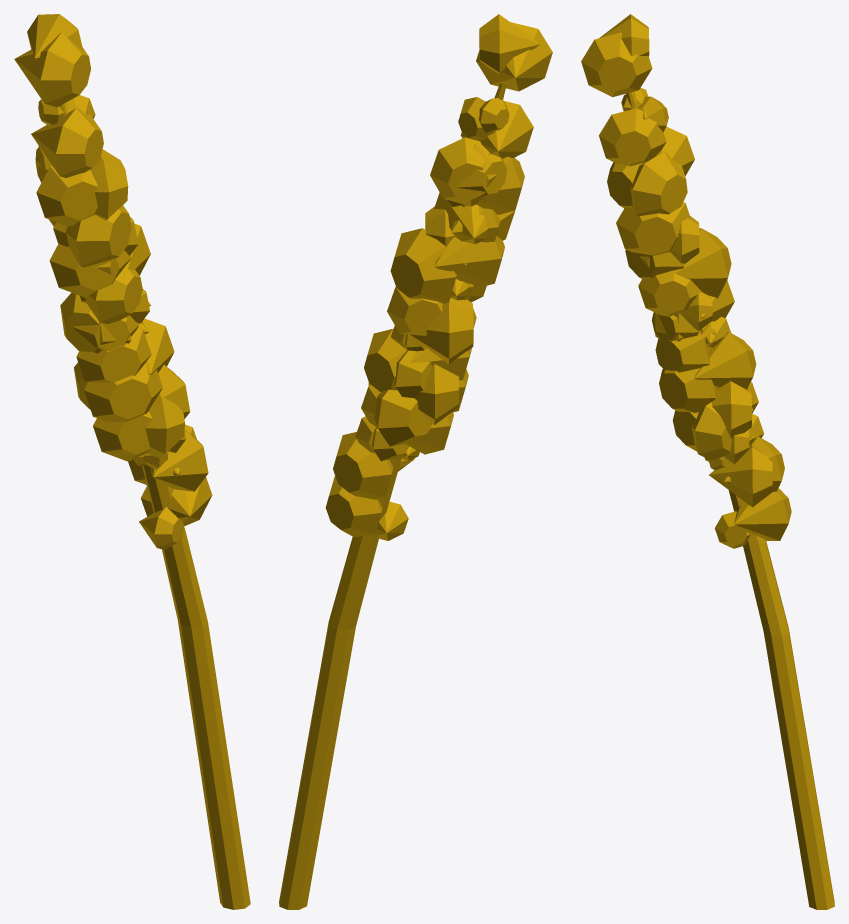
The model's file is g9-yellow.obj.
3 renders of one model, left to right at view 1: azimuth 30°, elevation 25°; view 2: azimuth 150°, elevation 25°; view 3: azimuth 330°, elevation 25°, orthographic. The views are drawn at different scales.
Parts seen in each view (by area): view 1: g9-yellow_Cylinder.035; view 2: g9-yellow_Cylinder.035; view 3: g9-yellow_Cylinder.035.
Boxes of the visible parts, <box> form: g9-yellow_Cylinder.035: <box>14,14,250,909</box>; g9-yellow_Cylinder.035: <box>279,14,552,909</box>; g9-yellow_Cylinder.035: <box>581,14,834,909</box>.
Bounding box in the file's own units: 1.14 × 4.22 × 0.49.
